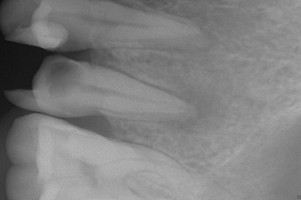Furcation Involvement: (155, 86, 230, 133)
